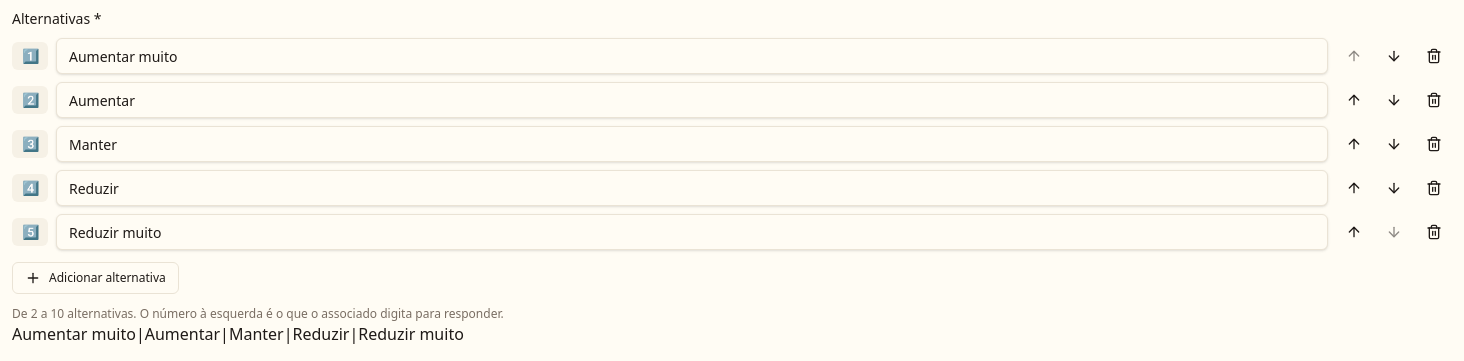
Test: edição das alternativas (§15) › remove a alternativa escolhida
Click the button named "remover \"Manter\"": (1434, 144) 1416,126 -> 1452,162
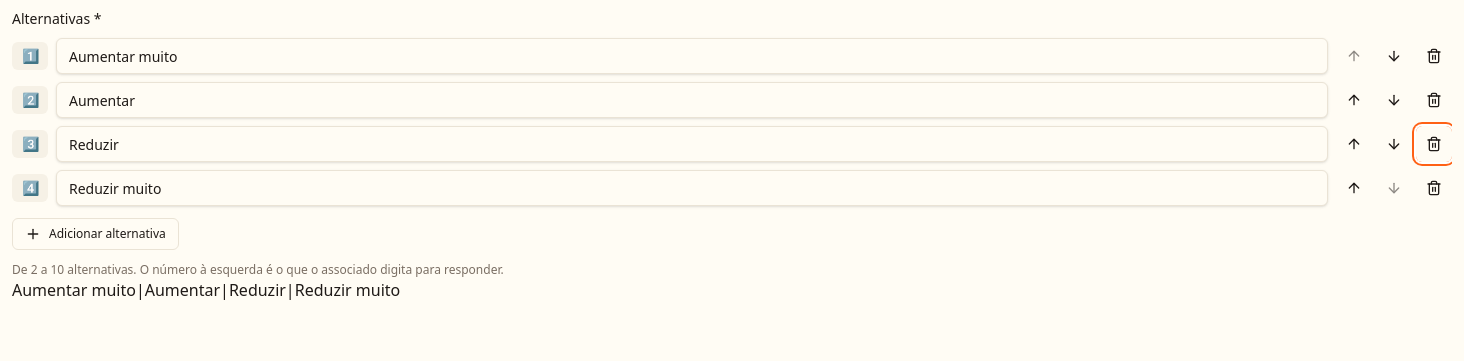
Result: the text with test id "ordem" reads "Aumentar muito|Aumentar|Reduzir|Reduzir muito" at 12,279 -> 400,301
